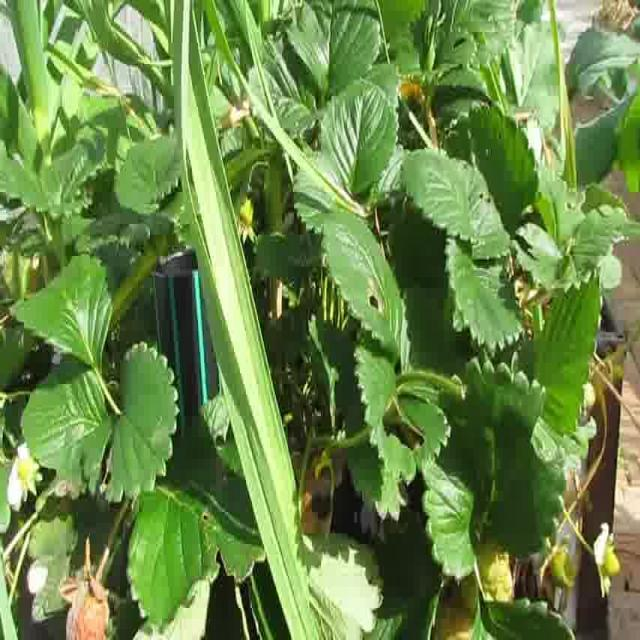Fruta sana: (462, 542, 514, 626), (432, 589, 477, 640), (551, 546, 577, 588), (598, 545, 622, 578), (238, 197, 254, 227), (15, 458, 30, 480)
Moho gris: (65, 578, 111, 638)
